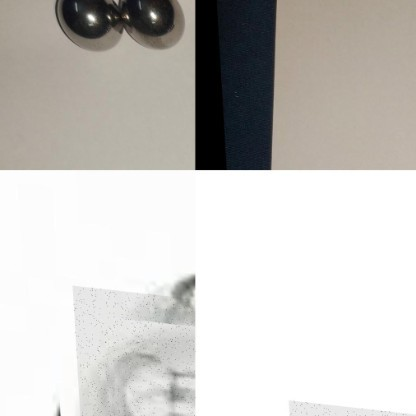ironball: (70, 279, 195, 415), (49, 0, 125, 51), (121, 0, 187, 55)
